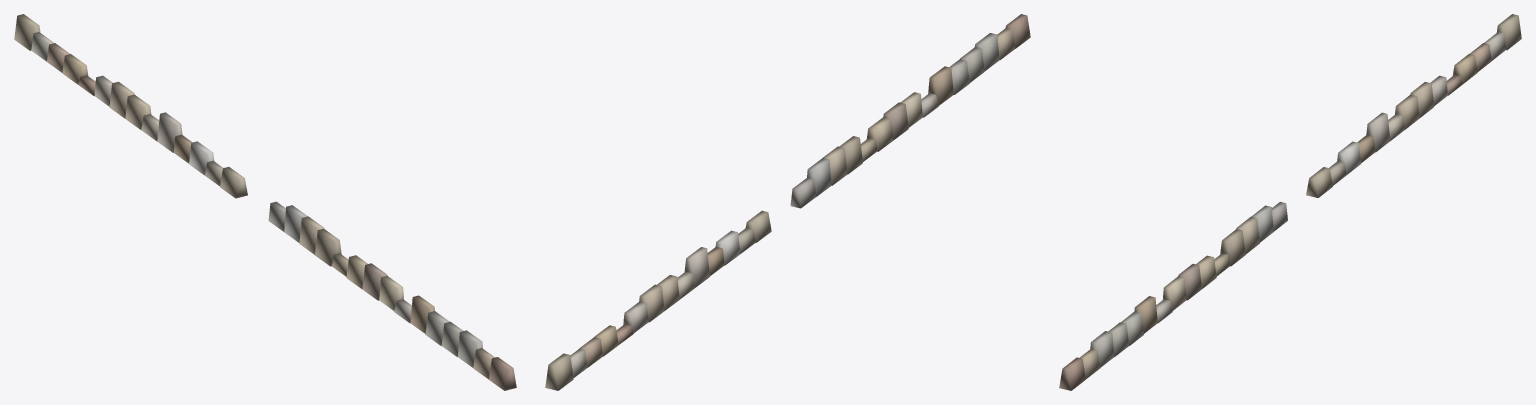
The model's file is farm_26_26_collision.glb.
3 views of the same model, side by side, from view 1: azimuth 30°, elevation 25°; view 2: azimuth 150°, elevation 25°; view 3: azimuth 330°, elevation 25° (orthographic). The views are drawn at different scales.
Parts seen in each view (by area): view 1: geometry_0; view 2: geometry_0; view 3: geometry_0.
Boxes of the visible parts, box(x1,y1,x2,y2) form: geometry_0: box(14, 14, 516, 390); geometry_0: box(545, 14, 1030, 390); geometry_0: box(1059, 14, 1521, 390).
Bounding box in the file's own units: 1.64 × 1.82 × 48.11.
